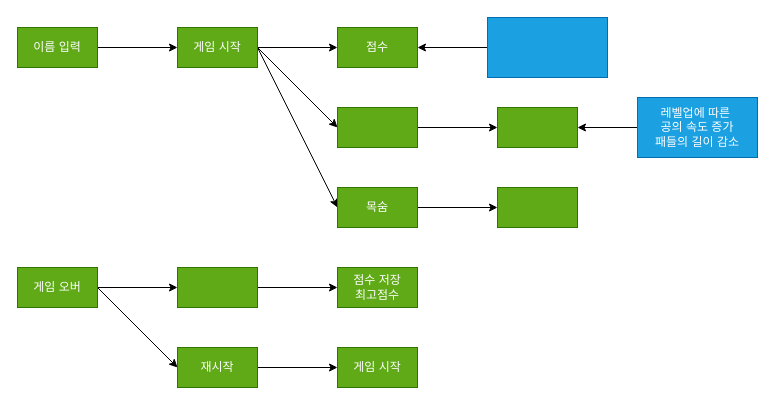
Some shapes in this 775 by 405 pixel diagram are drawn without their labels. Each missing label, with the box of its shape:
3개: (496, 186, 578, 228)
레벨: (336, 106, 418, 148)
벽돌 1개을 깰 때마다 10점 획득: (486, 16, 608, 78)
종료: (176, 266, 258, 308)
최대 5단계: (496, 106, 578, 148)
